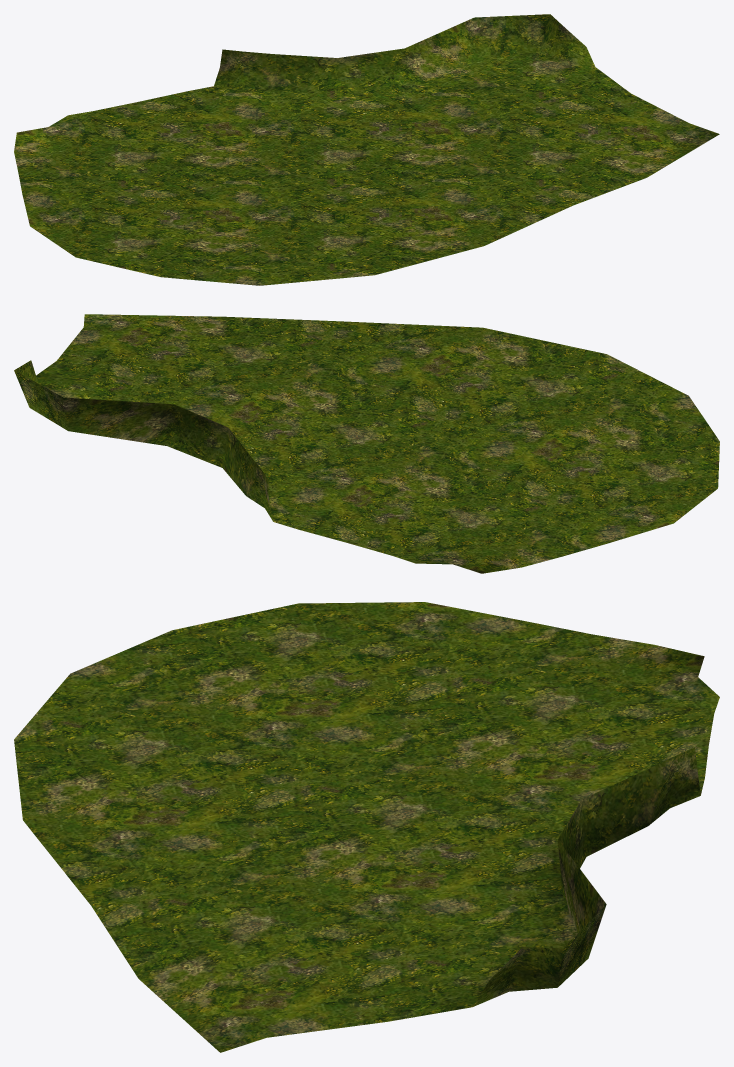
The model's file is OVERHILL_A_01_OH_B_OBJECT49.fbx.
3 views of the same model, one above another, from view 1: azimuth 30°, elevation 25°; view 2: azimuth 150°, elevation 25°; view 3: azimuth 270°, elevation 25° (orthographic). The views are drawn at different scales.
Visible parts, largest first — view 1: OVERHILL_A_01_OH_B_OBJECT49; view 2: OVERHILL_A_01_OH_B_OBJECT49; view 3: OVERHILL_A_01_OH_B_OBJECT49.
Boxes of the visible parts, bbox=[...] form: OVERHILL_A_01_OH_B_OBJECT49: bbox=[14, 14, 719, 285]; OVERHILL_A_01_OH_B_OBJECT49: bbox=[14, 314, 719, 573]; OVERHILL_A_01_OH_B_OBJECT49: bbox=[14, 602, 719, 1052].
Size of the model in its own units: 87463 by 6670 by 59315.
Materials: 2 (2 with a texture image).
